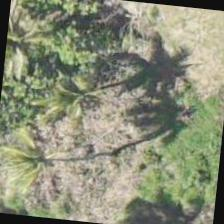Kelapa_Sawit: (0, 116, 60, 213)
